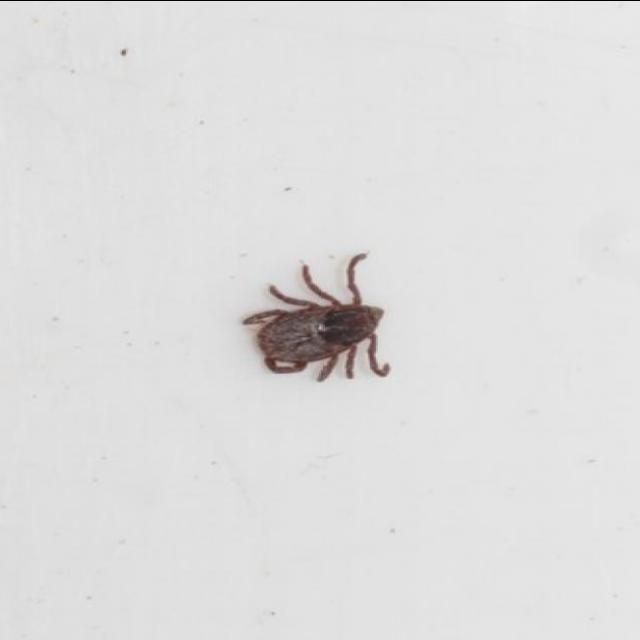Rhipicephalus Sanguineus-F: (241, 252, 389, 381)
